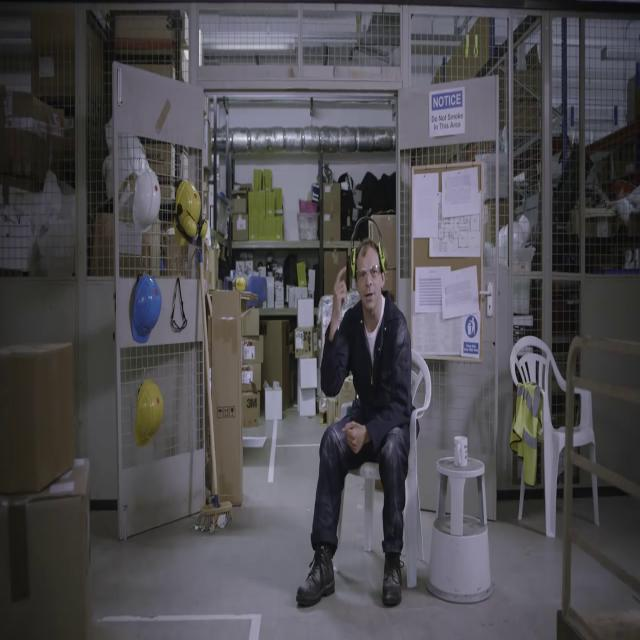earmuff: (378, 242, 390, 272), (349, 245, 357, 278)
glasses: (357, 265, 385, 283)
